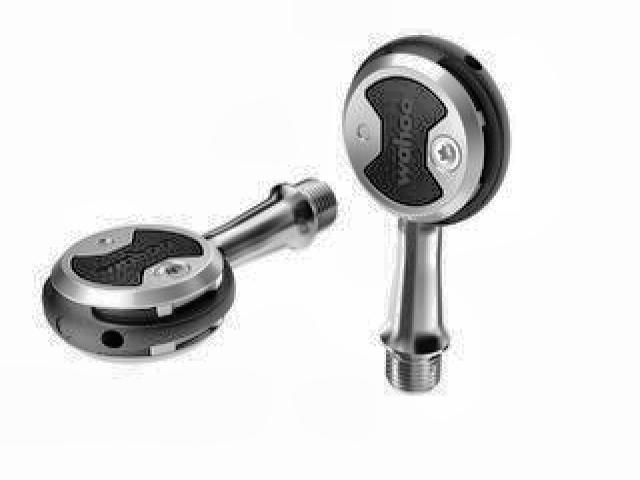pedal: (341, 30, 513, 413), (30, 170, 338, 367)
